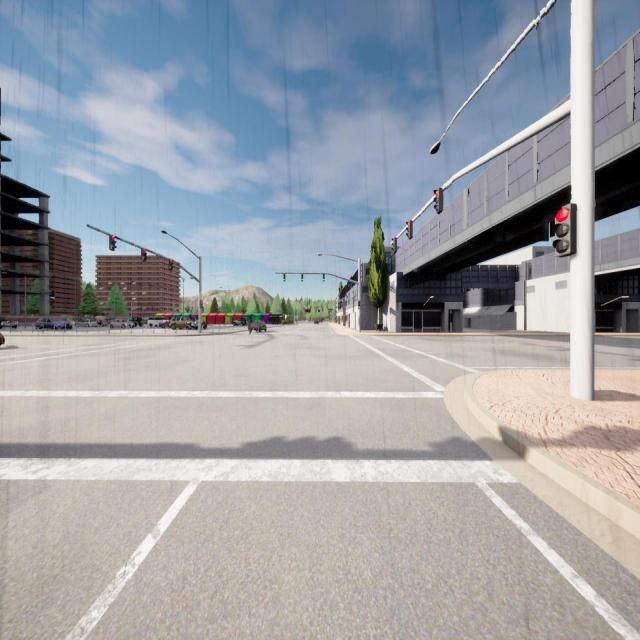Vehicle: (35, 315, 72, 331), (110, 318, 134, 329), (147, 316, 169, 328), (170, 317, 190, 330), (248, 320, 266, 333), (0, 316, 17, 329), (187, 320, 207, 330), (75, 317, 91, 328), (96, 316, 108, 327), (132, 317, 142, 327), (233, 318, 245, 326), (0, 332, 5, 346), (314, 320, 319, 325)
traffic_light: (552, 203, 576, 257), (434, 188, 443, 214), (406, 220, 412, 240), (109, 236, 117, 250), (392, 237, 397, 253), (141, 248, 147, 261), (168, 259, 174, 270), (322, 274, 325, 282), (284, 274, 286, 282), (358, 301, 360, 309), (301, 274, 303, 282), (200, 300, 202, 308)
